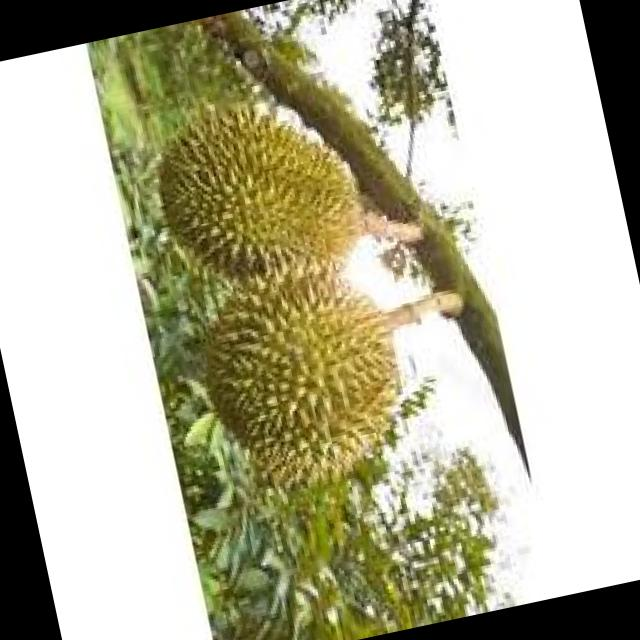fruit: (158, 213, 459, 522), (128, 70, 402, 320)
